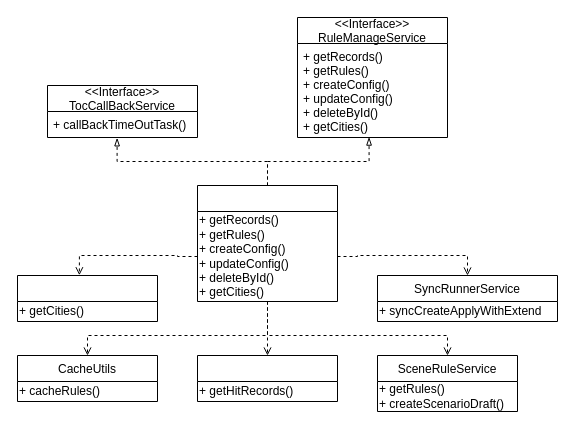
Some shapes in this 575 by 429 pixel diagram are drawn without their labels. Each missing label, with the box of its shape:
CityRefundService: (16, 274, 158, 322)
RuleManageServiceImpl: (196, 184, 338, 302)
SceneHitRecordService: (196, 354, 338, 402)
